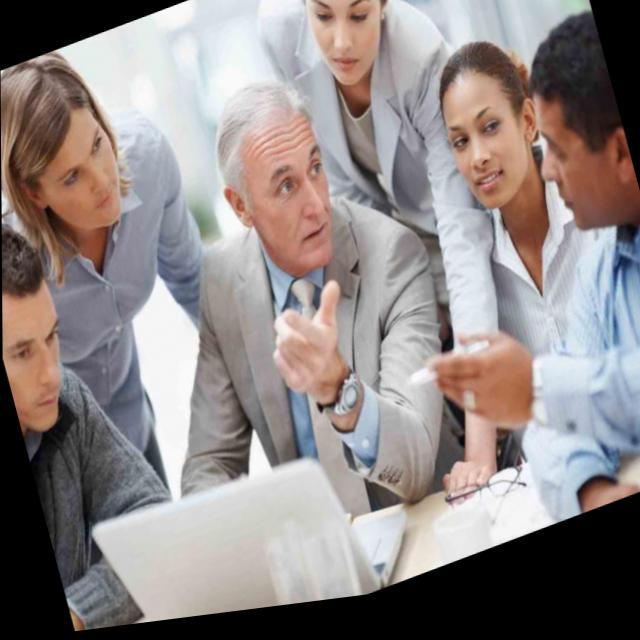Nonhelmet: (212, 78, 339, 276), (426, 39, 541, 215)
